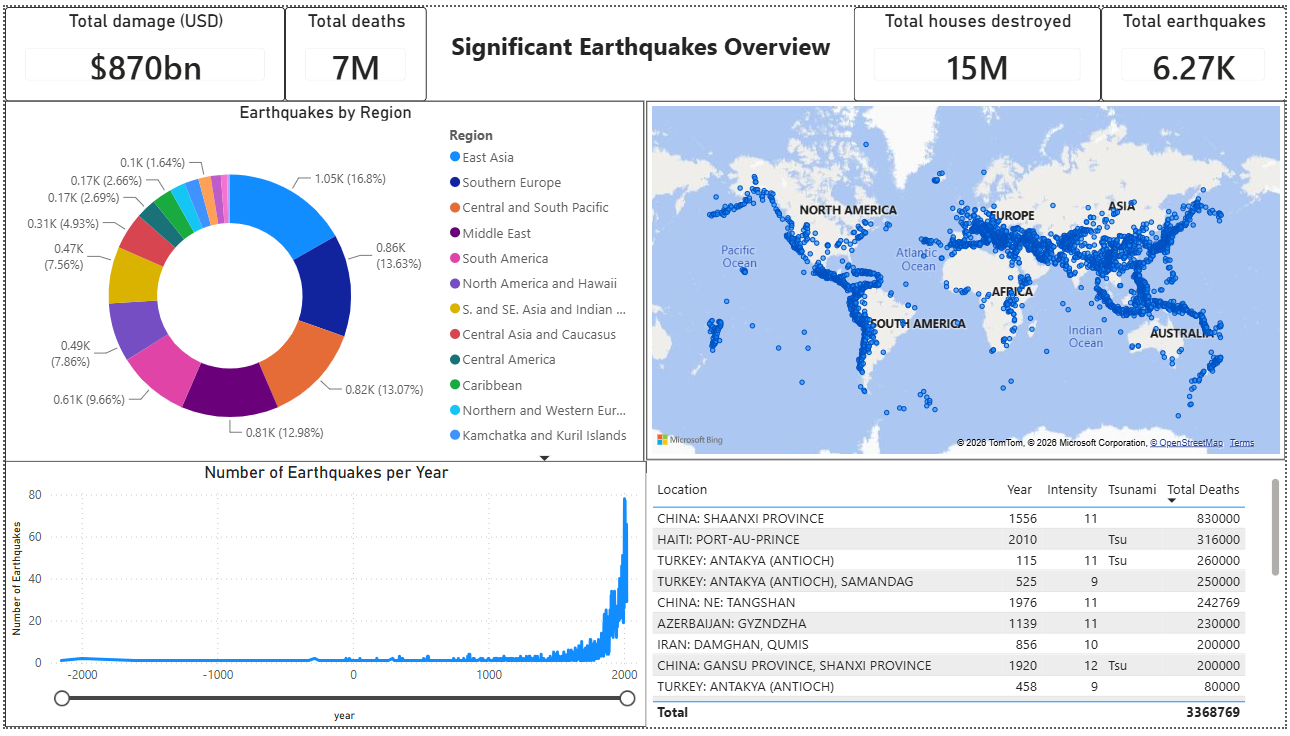

This screenshot's page, from the dashboard's own definition file:
{"tool":"powerbi","page":{"name":"Overview","canvas":[1280,720],"ordinal":0},"visuals":[{"type":"cardVisual","title":"Total damage (USD)","fields":{"Data":["Sum(total_earthquakes.total_damage_millions_dollars)"]},"box":[0,0,280,94.2],"z":0},{"type":"cardVisual","title":"Total deaths","fields":{"Data":["Sum(total_earthquakes.total_deaths)"]},"box":[280,0,141.8,94.2],"z":1000},{"type":"cardVisual","title":"Total houses destroyed","fields":{"Data":["Sum(total_earthquakes.total_houses_destroyed)"]},"box":[848.6,0,247,94.2],"z":2000},{"type":"cardVisual","title":"Total earthquakes","fields":{"Data":["CountNonNull(total_earthquakes.id)"]},"box":[1095.7,0,184.6,94.2],"z":3000},{"type":"textbox","box":[421.9,0,426.8,94.2],"z":4000},{"type":"donutChart","title":"Earthquakes by Region","fields":{"Category":["total_earthquakes.region_name"],"Y":["CountNonNull(total_earthquakes.id)"]},"box":[0,94.2,639.5,371.7],"z":5000},{"type":"map","fields":{"X":["total_earthquakes.longitude"],"Y":["total_earthquakes.latitude"]},"box":[640.8,94.2,639.5,359.5],"z":6000},{"type":"lineChart","title":"Number of Earthquakes per Year","fields":{"Category":["total_earthquakes.year"],"Y":["CountNonNull(total_earthquakes.id)"]},"box":[0,453.7,640.8,254.3],"z":7000},{"type":"tableEx","fields":{"Values":["total_earthquakes.location_name","total_earthquakes.year","total_earthquakes.intensity","total_earthquakes.flag_tsunami","Sum(total_earthquakes.total_deaths)"]},"box":[641,454,639,254],"z":8000}]}

Visuals, with their boxes in screenshot pixels (x1, y1, x2, y2), scaled from the page's 1280x720 canvas onto the 1290x736 screenshot:
"Total damage (USD)" cardVisual: bbox=(0, 0, 282, 96)
"Total deaths" cardVisual: bbox=(282, 0, 425, 96)
"Total houses destroyed" cardVisual: bbox=(855, 0, 1104, 96)
"Total earthquakes" cardVisual: bbox=(1104, 0, 1289, 96)
textbox: bbox=(425, 0, 855, 96)
"Earthquakes by Region" donutChart: bbox=(0, 96, 644, 476)
map - total_earthquakes.longitude x total_earthquakes.latitude: bbox=(646, 96, 1289, 464)
"Number of Earthquakes per Year" lineChart: bbox=(0, 464, 646, 724)
tableEx - total_earthquakes.location_name x total_earthquakes.year: bbox=(646, 464, 1289, 724)
